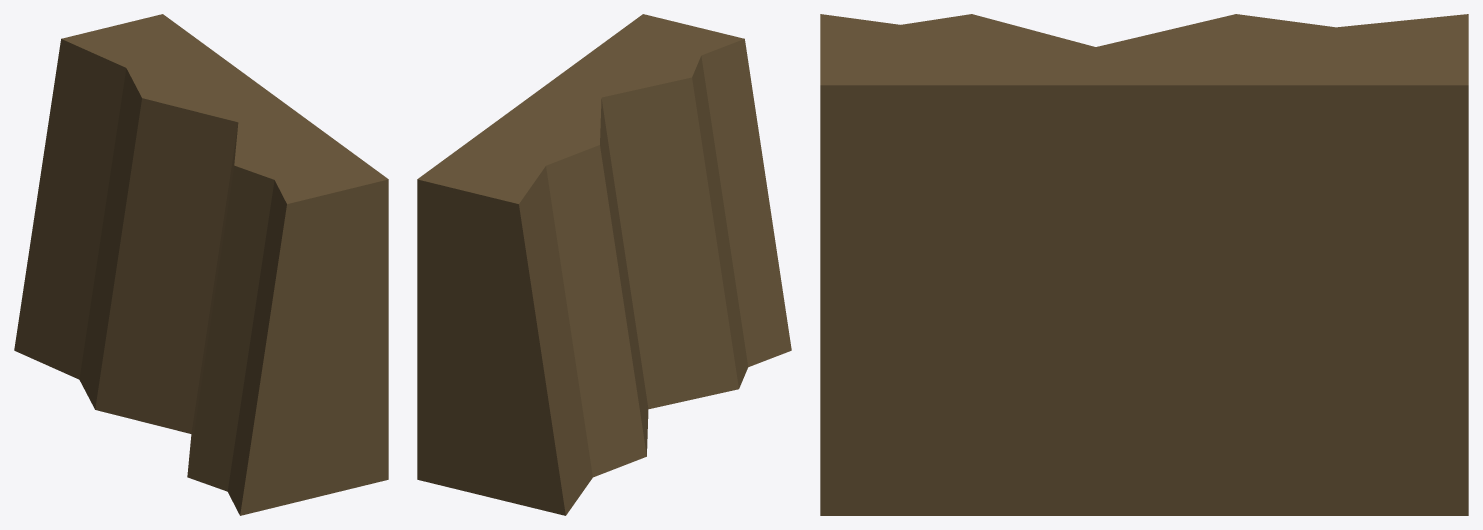
The model's file is Brown_Cliff_Bottom_01.obj.
3 renders of one model, left to right at view 1: azimuth 30°, elevation 25°; view 2: azimuth 150°, elevation 25°; view 3: azimuth 270°, elevation 25°, orthographic. The views are drawn at different scales.
Visible parts, largest first — view 1: Mesh1_Brown_Cliff_Bottom_Model; view 2: Mesh1_Brown_Cliff_Bottom_Model; view 3: Mesh1_Brown_Cliff_Bottom_Model.
Part boxes in pixels (box(x1,y1,x2,y2)): Mesh1_Brown_Cliff_Bottom_Model: box(14, 14, 388, 515); Mesh1_Brown_Cliff_Bottom_Model: box(417, 14, 791, 515); Mesh1_Brown_Cliff_Bottom_Model: box(820, 14, 1468, 515).
Size of the model in its own units: 1.14 by 2.2 by 3.
